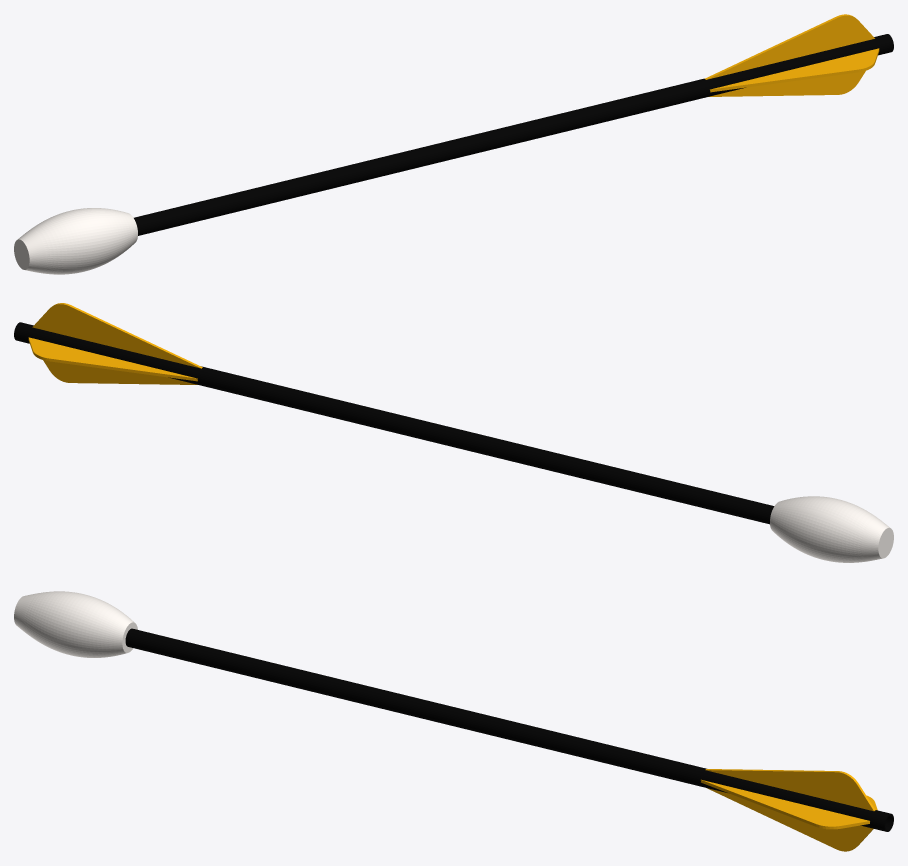
File: arrow.obj
3 views of the same model, one above another, from view 1: azimuth 30°, elevation 25°; view 2: azimuth 150°, elevation 25°; view 3: azimuth 330°, elevation 25° (orthographic).
Visible parts, largest first — view 1: body332522_body332522Mesh, body332438_body332438Mesh, body332313_body332313Mesh, body332188_body332188Mesh, body332063_body332063Mesh; view 2: body332522_body332522Mesh, body332438_body332438Mesh, body332313_body332313Mesh, body331938_body331938Mesh, body332063_body332063Mesh; view 3: body332522_body332522Mesh, body332438_body332438Mesh, body332313_body332313Mesh, body332188_body332188Mesh, body332063_body332063Mesh.
Boxes of the visible parts, x1=… form: body332522_body332522Mesh: x1=134, y1=34, x2=893, y2=235; body332438_body332438Mesh: x1=14, y1=208, x2=137, y2=274; body332313_body332313Mesh: x1=704, y1=14, x2=874, y2=79; body332188_body332188Mesh: x1=710, y1=48, x2=879, y2=92; body332063_body332063Mesh: x1=709, y1=71, x2=865, y2=96; body332522_body332522Mesh: x1=14, y1=322, x2=774, y2=524; body332438_body332438Mesh: x1=770, y1=496, x2=893, y2=562; body332313_body332313Mesh: x1=32, y1=303, x2=202, y2=368; body331938_body331938Mesh: x1=28, y1=337, x2=197, y2=381; body332063_body332063Mesh: x1=43, y1=360, x2=197, y2=384; body332522_body332522Mesh: x1=125, y1=628, x2=893, y2=831; body332438_body332438Mesh: x1=14, y1=591, x2=137, y2=657; body332313_body332313Mesh: x1=705, y1=769, x2=875, y2=811; body332188_body332188Mesh: x1=700, y1=779, x2=869, y2=829; body332063_body332063Mesh: x1=707, y1=788, x2=873, y2=851.
Size of the model in its own units: 0.64 by 0.055 by 0.055.
